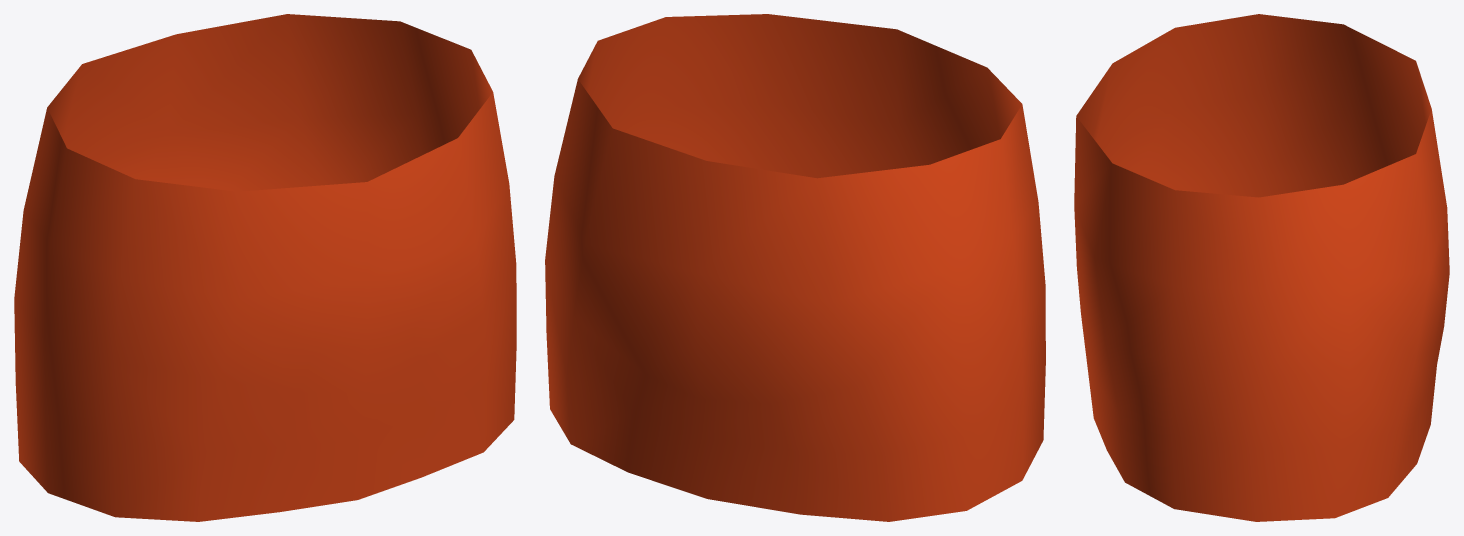
File: Pants_Orange_006.glb
3 renders of one model, left to right at view 1: azimuth 30°, elevation 25°; view 2: azimuth 150°, elevation 25°; view 3: azimuth 270°, elevation 25°, orthographic. The views are drawn at different scales.
Visible parts, largest first — view 1: Pants_Orange_006; view 2: Pants_Orange_006; view 3: Pants_Orange_006.
Boxes of the visible parts, x1=… form: Pants_Orange_006: x1=14, y1=14, x2=516, y2=521; Pants_Orange_006: x1=545, y1=14, x2=1045, y2=521; Pants_Orange_006: x1=1074, y1=14, x2=1449, y2=521.
Size of the model in its own units: 0.4681 by 0.3437 by 0.3645.
Materials: 1 (1 with a texture image).
